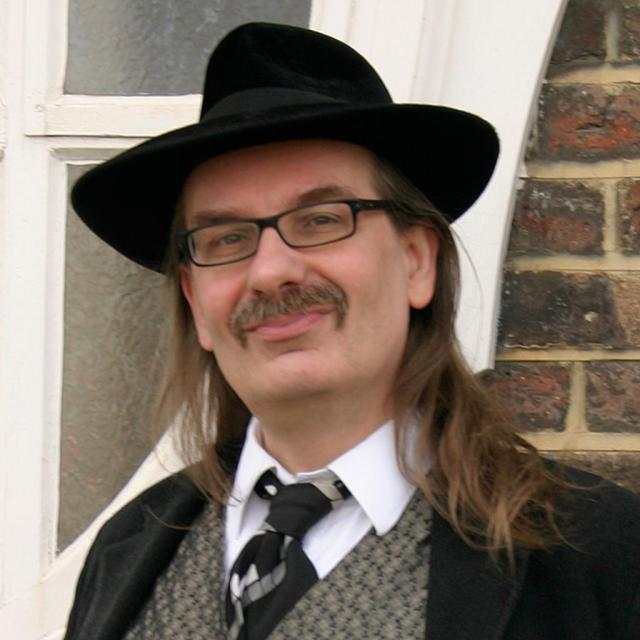nomask: (182, 136, 404, 398)
